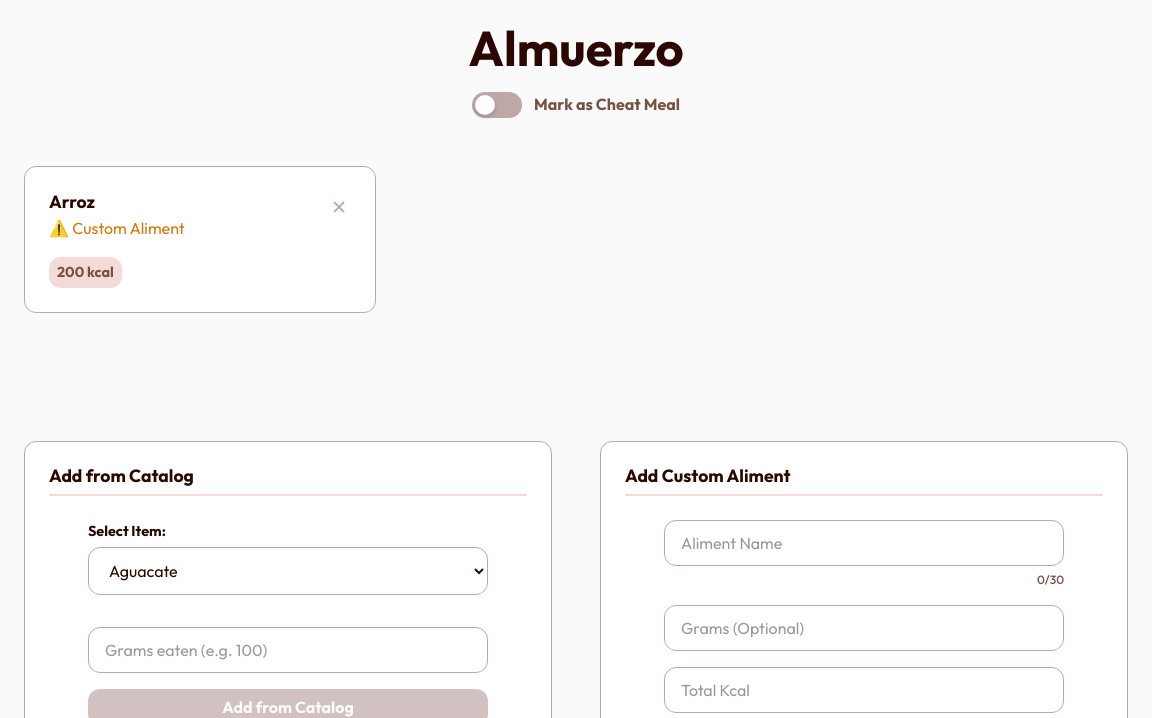
Scenario: MealItem - Aliments Management (Integration) › debe añadir un 'Custom Aliment' (sin catálogo) correctamente
Llenamos el formulario
Type "Manzana" into the field with placeholder "Aliment Name" at [864, 543], box [664,520,1064,566]
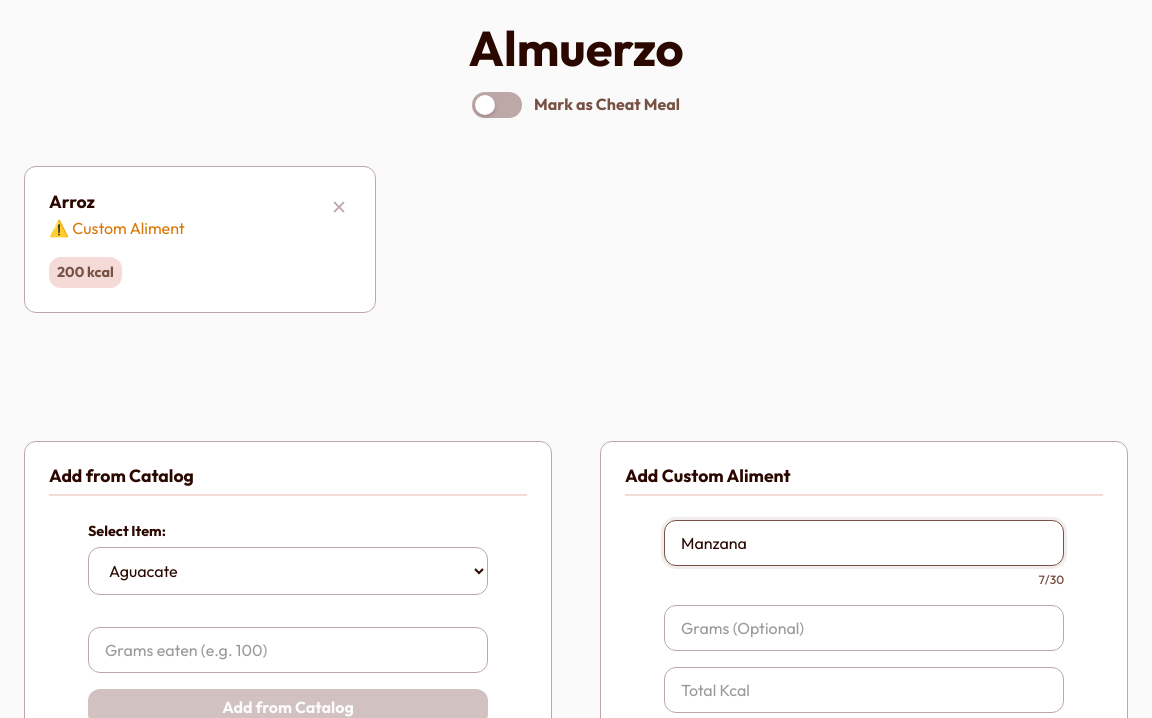
Type "150" into the field with placeholder "Grams (Optional)" at [864, 628], box [664,605,1064,651]
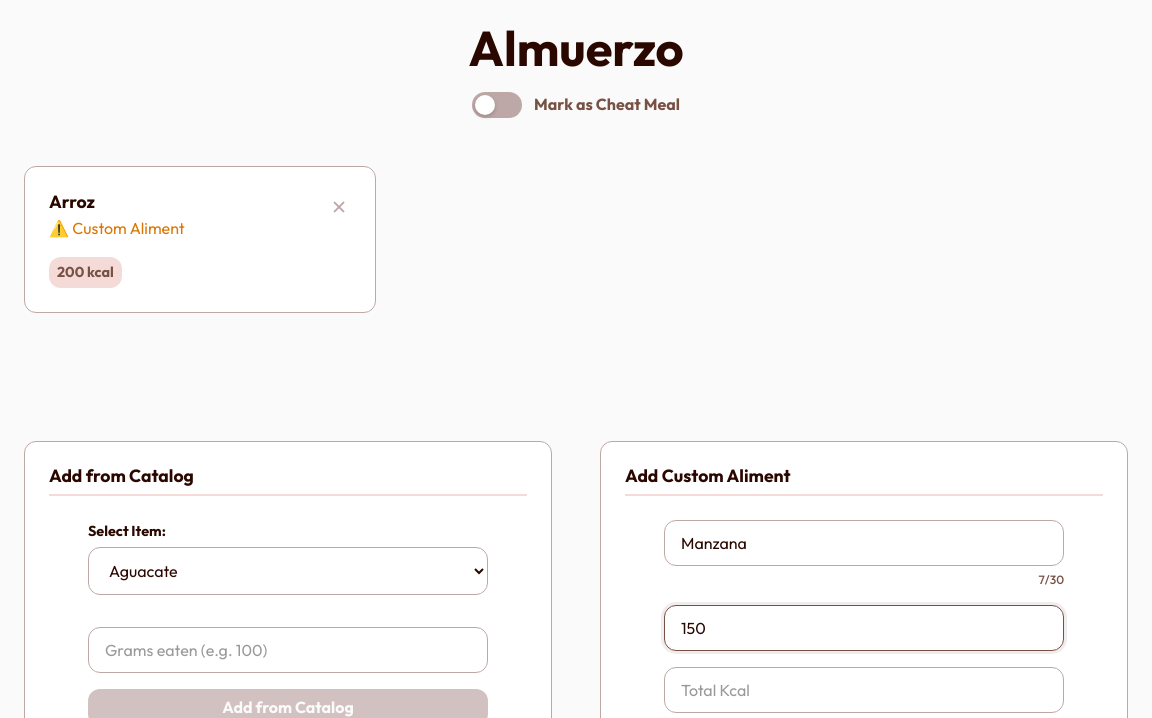
Type "80" into the field with placeholder "Total Kcal" at [864, 690], box [664,667,1064,713]
(page scrolled)
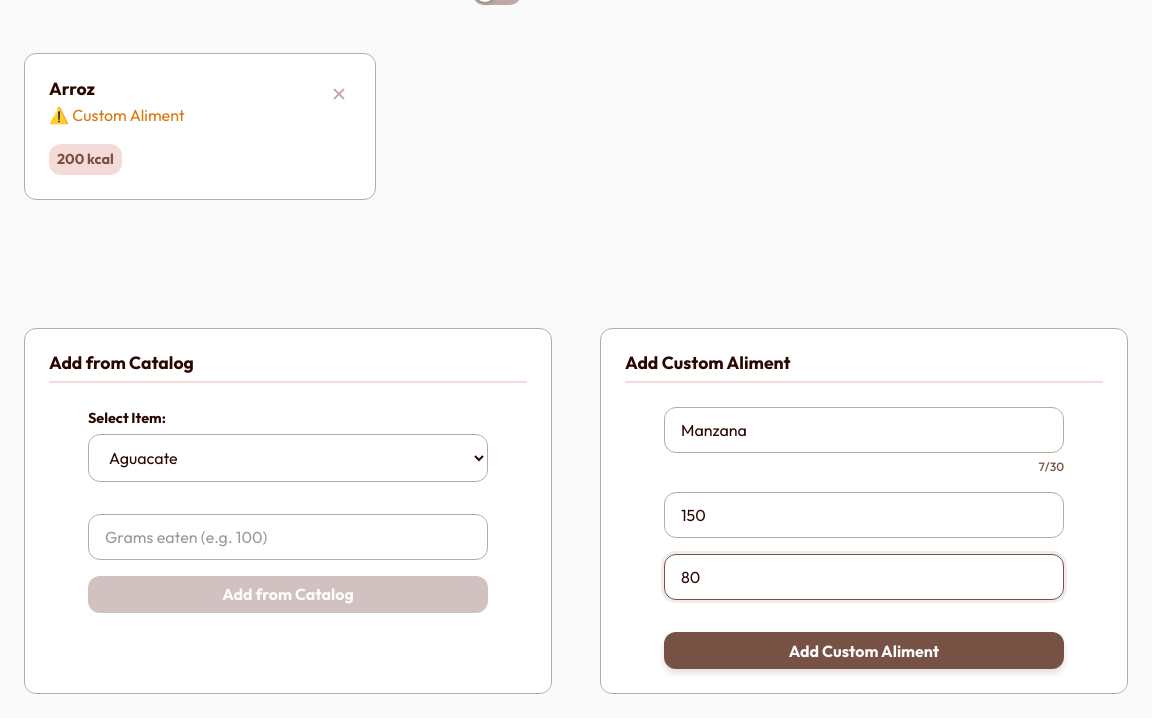
Expected: the button "Add Custom Aliment" is enabled
Click the button "Add Custom Aliment" at [864, 651], box [664,632,1064,669]
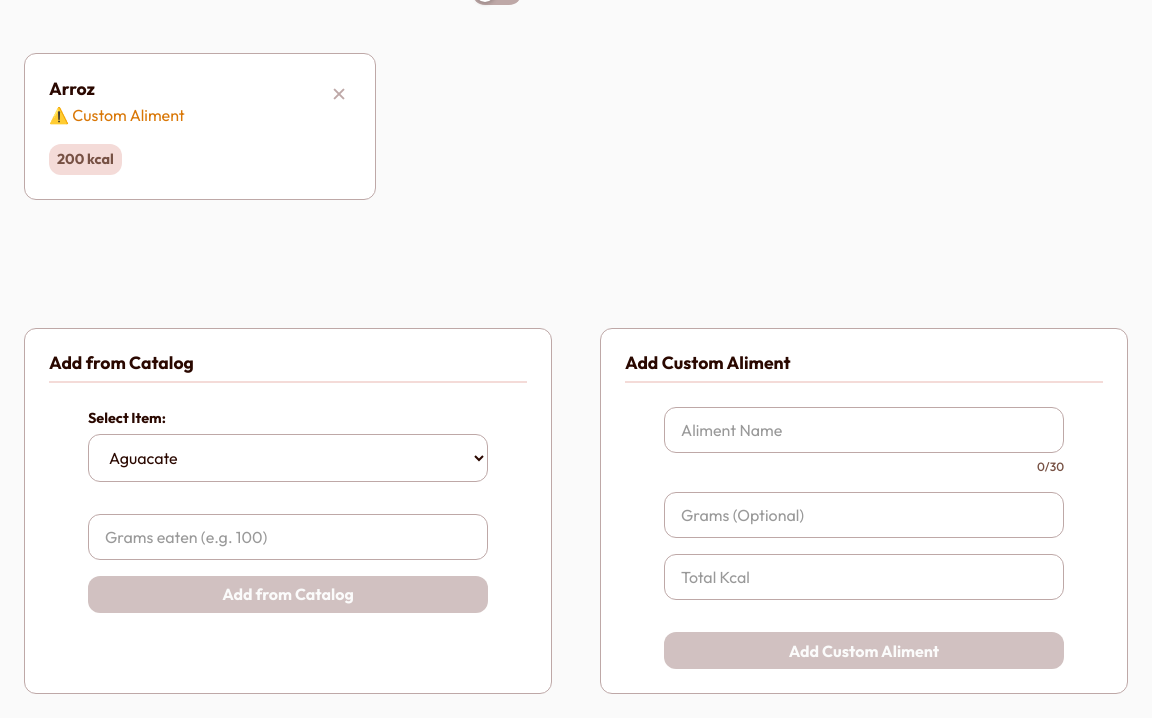
Expected: the field with placeholder "Aliment Name" is empty, [664,407,1064,453]
